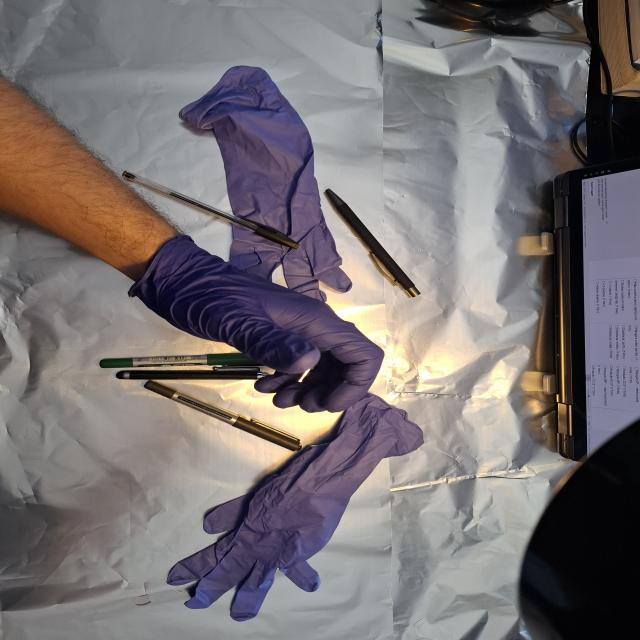glove_on: (123, 236, 390, 415)
